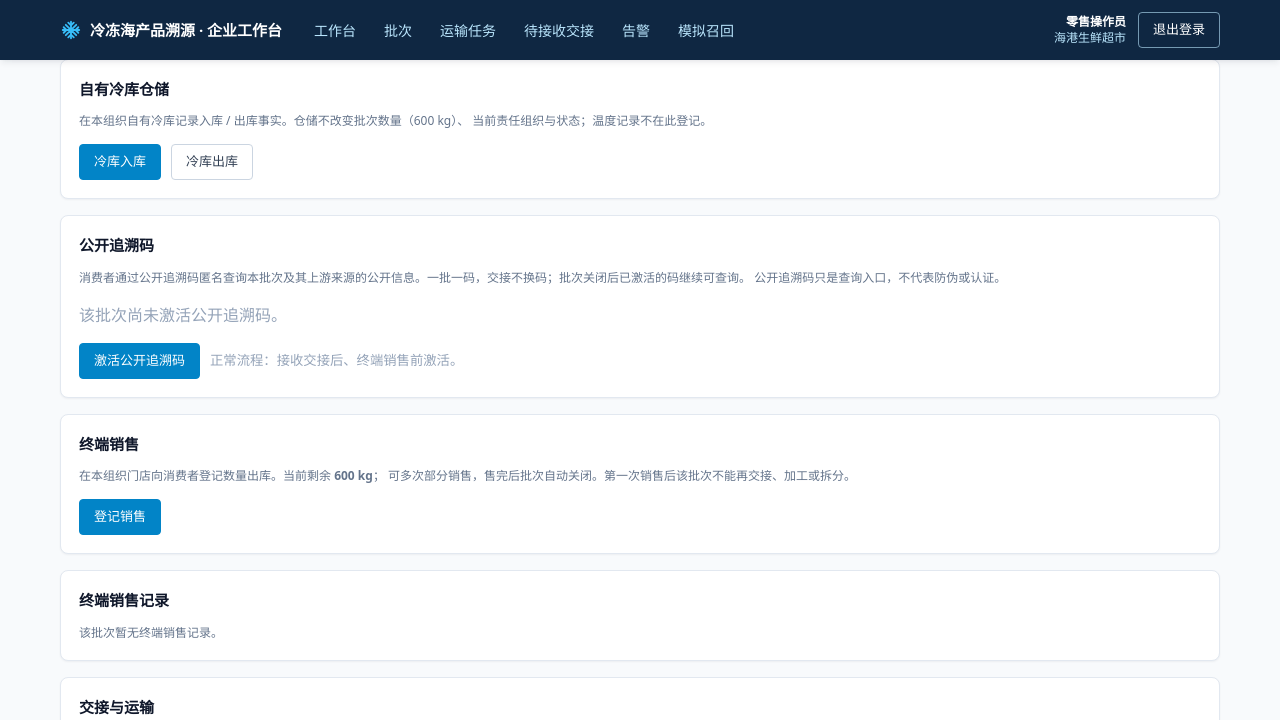
it: PublicTraceCode panel › shows the server rejection and reloads the current code on 422
(page scrolled)
What coordinates should you click on to do the following:
click the button with test id "public-code-activate"
I would click on:
 (140, 360)
Its box is [79, 342, 200, 378].
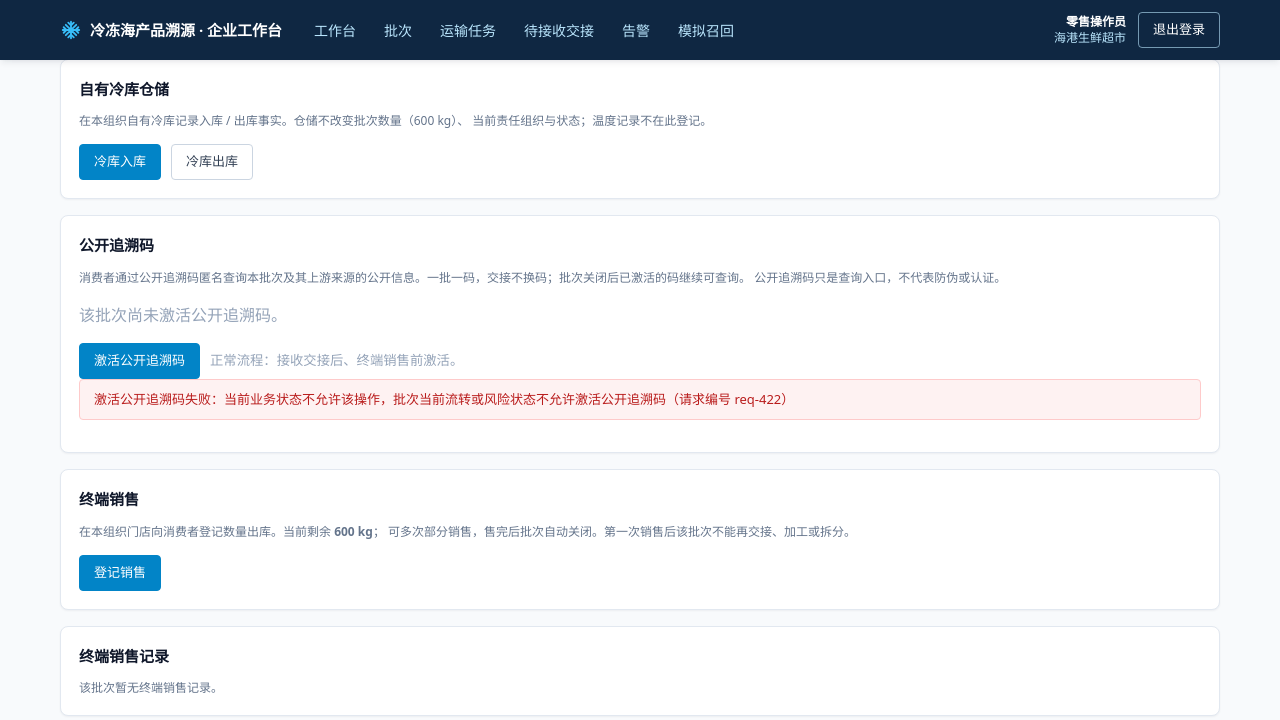
Expected: the message with test id "public-code-error" is shown, [79, 378, 1201, 420]
